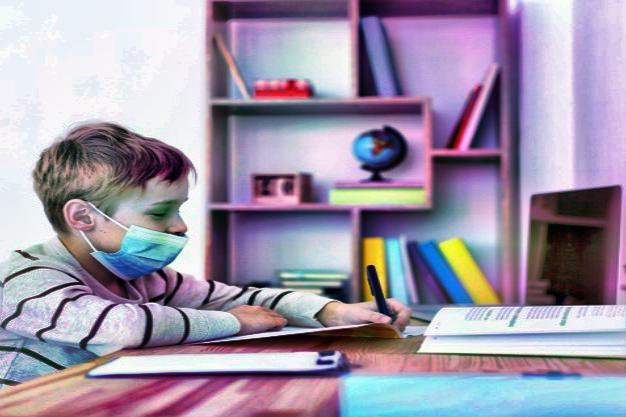mask_weared_incorrect: (36, 119, 194, 283)
